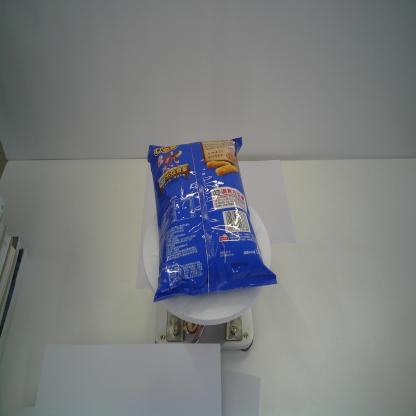Puffed Food: (146, 136, 278, 302)
